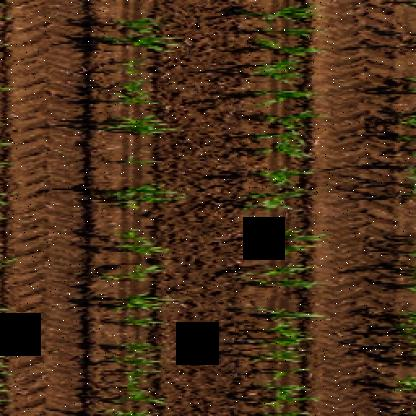c: (107, 179, 179, 408), (250, 7, 314, 210), (256, 224, 314, 411), (106, 16, 180, 145)
